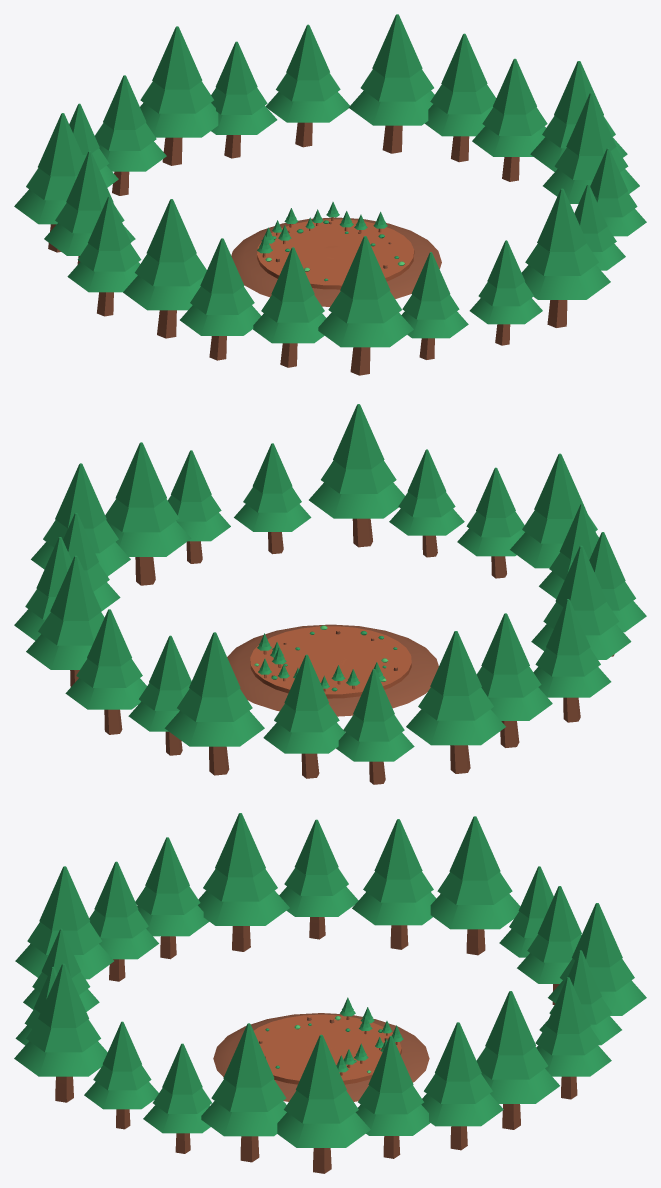
The model's file is flicker_stag.glb.
3 renders of one model, top to bottom at view 1: azimuth 30°, elevation 25°; view 2: azimuth 150°, elevation 25°; view 3: azimuth 270°, elevation 25°, orthographic. The views are drawn at different scales.
Visible parts, largest first — view 1: FlickerStagGround; view 2: FlickerStagGround; view 3: FlickerStagGround.
Boxes of the visible parts, box(x1,y1,x2,y2) form: FlickerStagGround: box(14, 14, 646, 375); FlickerStagGround: box(14, 404, 646, 784); FlickerStagGround: box(14, 813, 646, 1173).
Size of the model in its own units: 47.48 by 11.9 by 47.41.
1 material, 1 textured.
